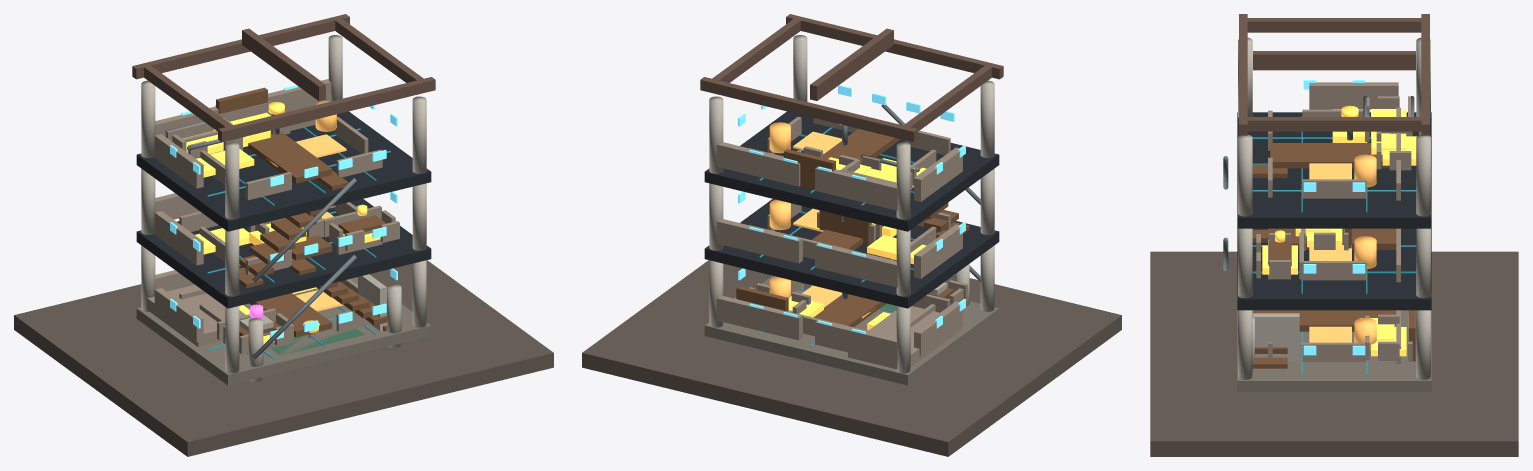
3 renders of one model, left to right at view 1: azimuth 30°, elevation 25°; view 2: azimuth 150°, elevation 25°; view 3: azimuth 270°, elevation 25°, orthographic. The views are drawn at different scales.
Visible parts, largest first — view 1: ProfileGround.005, BuildingFloor_3.002, BuildingFloor_2.002, BuildingFloor_1.002, RoofEaveSouth_visual_lantern_manor, RoofEaveNorth_visual_lantern_manor, ManorHall_visual_lantern_manor_2, RoofRidge_visual_lantern_manor, ManorServiceWing_visual_lantern_manor, RoofEaveWest_visual_lantern_manor, RoofEaveEast_visual_lantern_manor, ManorHall_visual_lantern_manor_0 (+31 smaller); view 2: ProfileGround.005, BuildingFloor_3.002, BuildingFloor_2.002, BuildingFloor_1.002, RoofEaveNorth_visual_lantern_manor, RoofEaveSouth_visual_lantern_manor, BackWall_2_1.002, BackWall_1_1.002, BackWall_3_1.002, BackWall_2_-1.002, BackWall_1_-1.002, BackWall_3_-1.002 (+28 smaller); view 3: ProfileGround.005, BuildingFloor_3.002, BuildingFloor_2.002, BuildingFloor_1.002, RoofRidge_visual_lantern_manor, RoofEaveWest_visual_lantern_manor, RoofEaveEast_visual_lantern_manor, ManorHall_visual_lantern_manor_2, SideWall_3.002, ManorCourtyardGate_visual_lantern_manor, ManorHall_visual_lantern_manor_0, Column_3_1_-1.002 (+30 smaller).
Part boxes in pixels (box(x1,y1,x2,y2)): ProfileGround.005: box(14, 260, 553, 456); BuildingFloor_3.002: box(136, 111, 431, 231); BuildingFloor_2.002: box(136, 199, 431, 308); BuildingFloor_1.002: box(136, 277, 431, 385); RoofEaveSouth_visual_lantern_manor: box(218, 77, 435, 142); RoofEaveNorth_visual_lantern_manor: box(132, 14, 349, 79); ManorHall_visual_lantern_manor_2: box(245, 132, 332, 183); RoofRidge_visual_lantern_manor: box(242, 28, 325, 100); ManorServiceWing_visual_lantern_manor: box(146, 285, 245, 347); RoofEaveWest_visual_lantern_manor: box(144, 65, 232, 131); RoofEaveEast_visual_lantern_manor: box(335, 19, 423, 82); ManorHall_visual_lantern_manor_0: box(249, 293, 332, 337); ProfileGround.005: box(582, 260, 1121, 456); BuildingFloor_3.002: box(704, 111, 999, 231); BuildingFloor_2.002: box(704, 199, 999, 308); BuildingFloor_1.002: box(704, 276, 999, 385); RoofEaveNorth_visual_lantern_manor: box(700, 77, 917, 142); RoofEaveSouth_visual_lantern_manor: box(786, 14, 1003, 79); BackWall_2_1.002: box(716, 219, 802, 263); BackWall_1_1.002: box(716, 296, 802, 340); BackWall_3_1.002: box(716, 142, 800, 186); BackWall_2_-1.002: box(815, 242, 897, 287); BackWall_1_-1.002: box(815, 319, 897, 364); BackWall_3_-1.002: box(815, 167, 897, 210); ProfileGround.005: box(1150, 251, 1518, 456); BuildingFloor_3.002: box(1237, 112, 1431, 228); BuildingFloor_2.002: box(1237, 228, 1431, 310); BuildingFloor_1.002: box(1237, 310, 1431, 391); RoofRidge_visual_lantern_manor: box(1253, 51, 1415, 70); RoofEaveWest_visual_lantern_manor: box(1247, 18, 1421, 32); RoofEaveEast_visual_lantern_manor: box(1247, 117, 1421, 131); ManorHall_visual_lantern_manor_2: box(1270, 143, 1389, 168); SideWall_3.002: box(1309, 82, 1398, 109); ManorCourtyardGate_visual_lantern_manor: box(1253, 313, 1299, 361); ManorHall_visual_lantern_manor_0: box(1287, 310, 1396, 331); Column_3_1_-1.002: box(1238, 134, 1252, 216).
Size of the model in its own units: 5.18 by 3.94 by 4.26.
